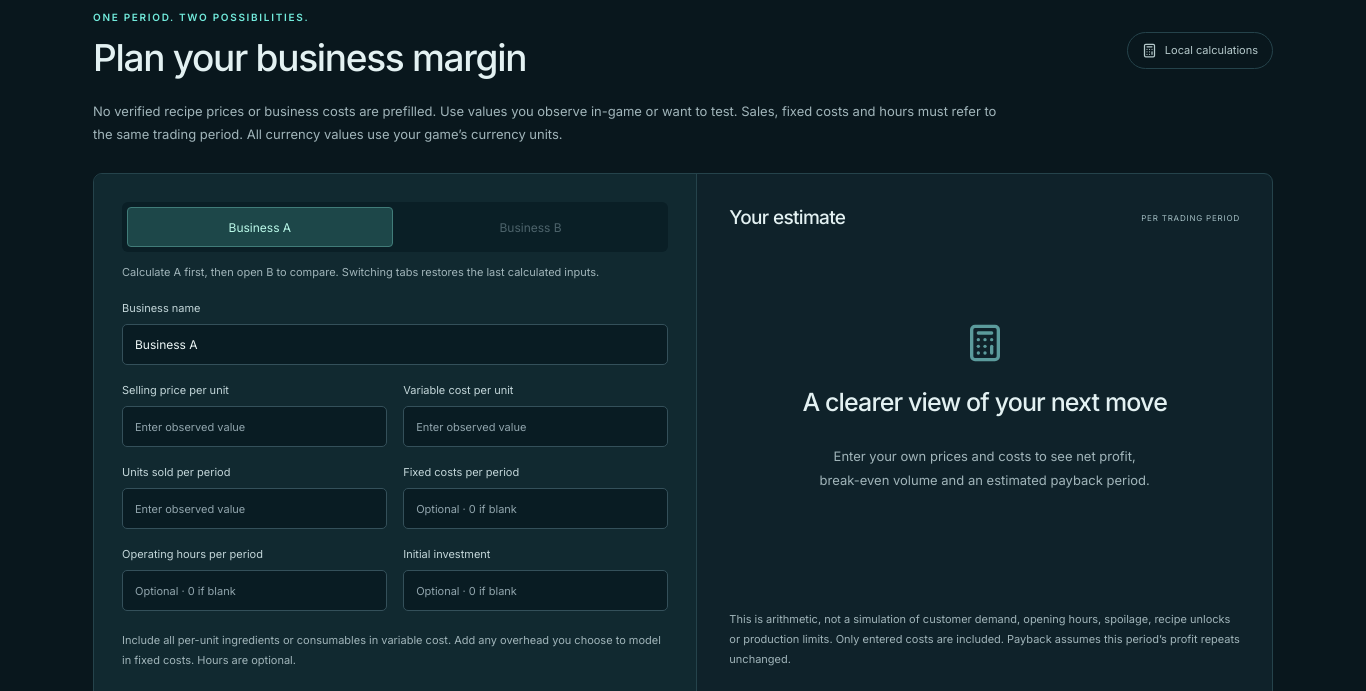
Nivalis user-input planning tool › keeps calculations usable when browser storage is denied
The width and height of the screenshot is (1366, 691).
(page scrolled)
Replace the text in the field labelled "Business name" with "Private test business". click: (395, 345)
box: [122,324,668,365]
Type "12" into the number field labelled "Selling price per unit". click: (255, 427)
box: [122,406,387,447]
Type "5" into the number field labelled "Variable cost per unit". click: (536, 427)
box: [403,406,668,447]
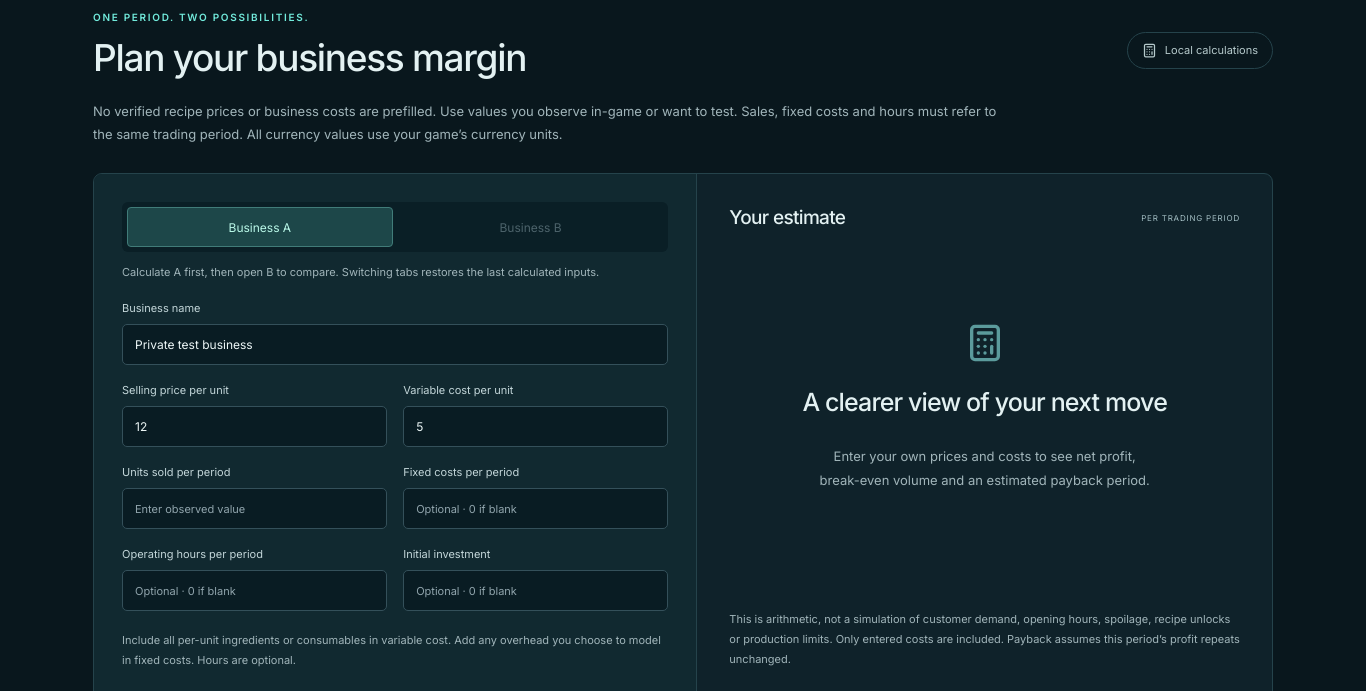
Type "40" into the number field labelled "Units sold per period". click: (255, 509)
box: [122,488,387,529]
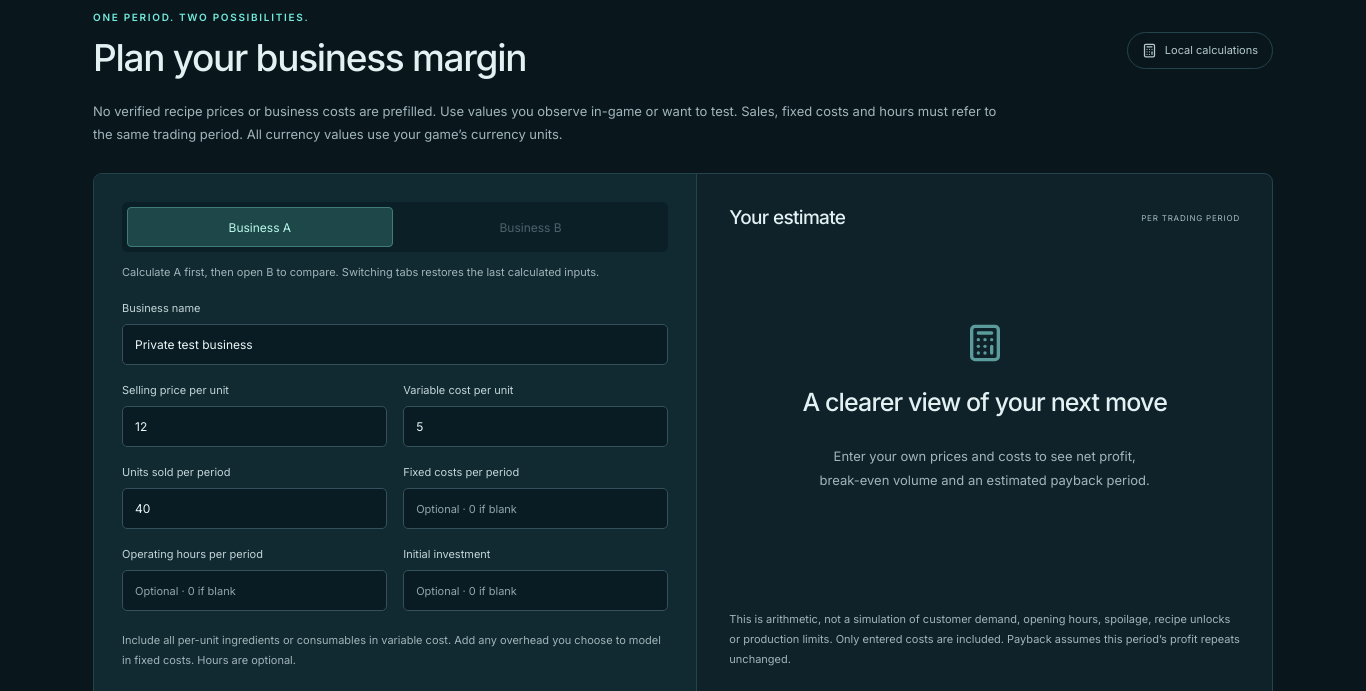
Type "100" into the number field labelled "Fixed costs per period". click: (536, 509)
box: [403,488,668,529]
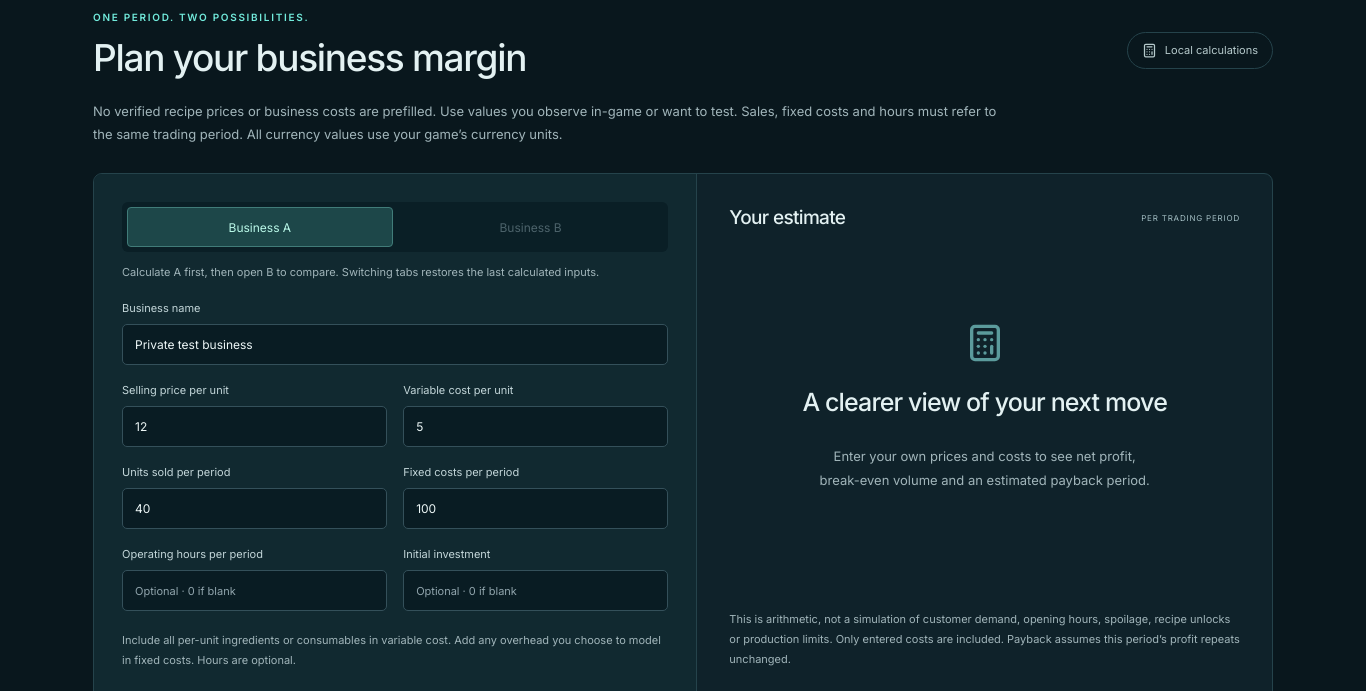
Type "4" into the number field labelled "Operating hours per period". click: (255, 591)
box: [122,570,387,611]
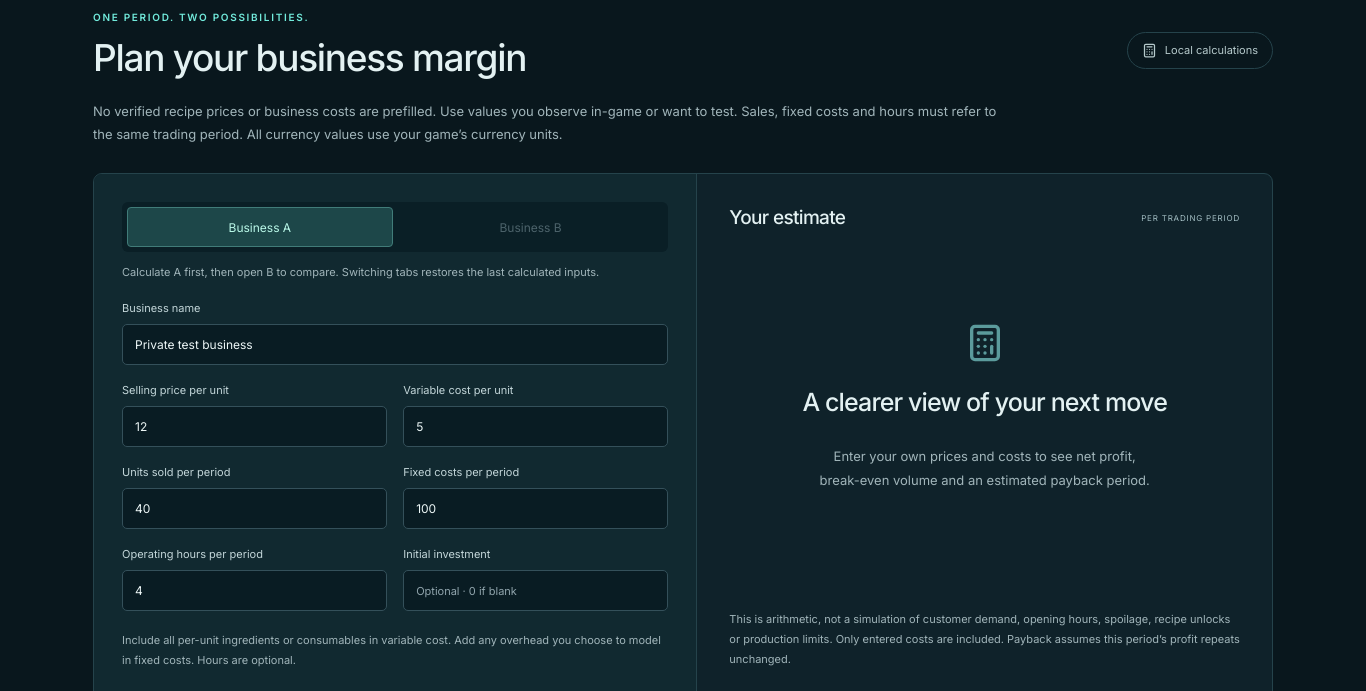
Type "500" into the number field labelled "Initial investment". click: (536, 591)
box: [403,570,668,611]
(page scrolled)
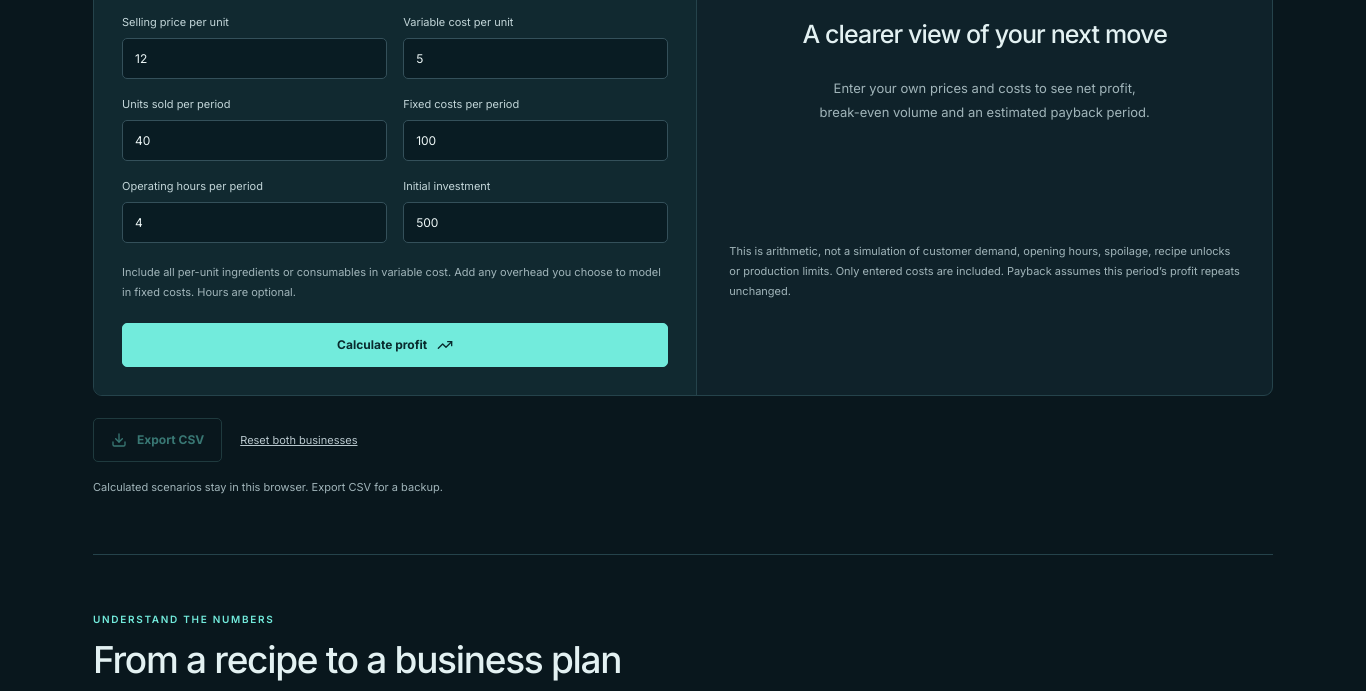
Click the button "Calculate profit". click: (395, 345)
box: [122,323,668,367]
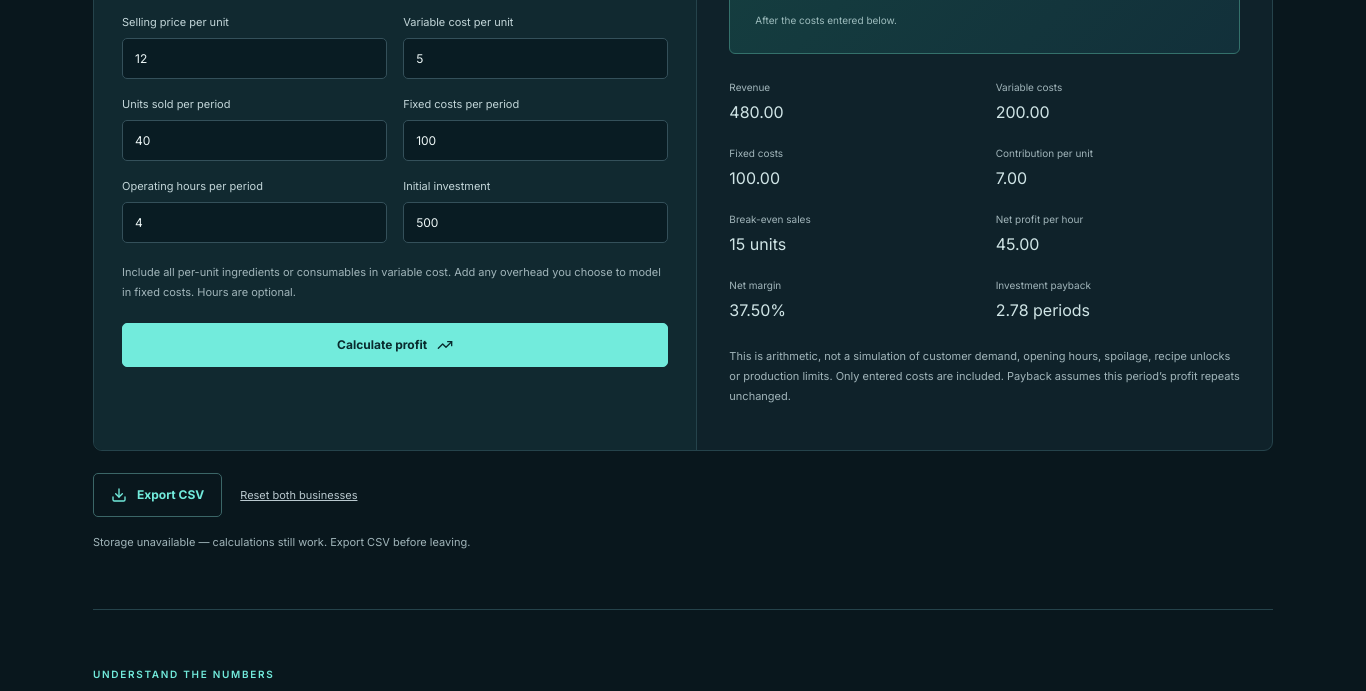
Check: the message shows "Storage unavailable", box [93,535,470,549]
